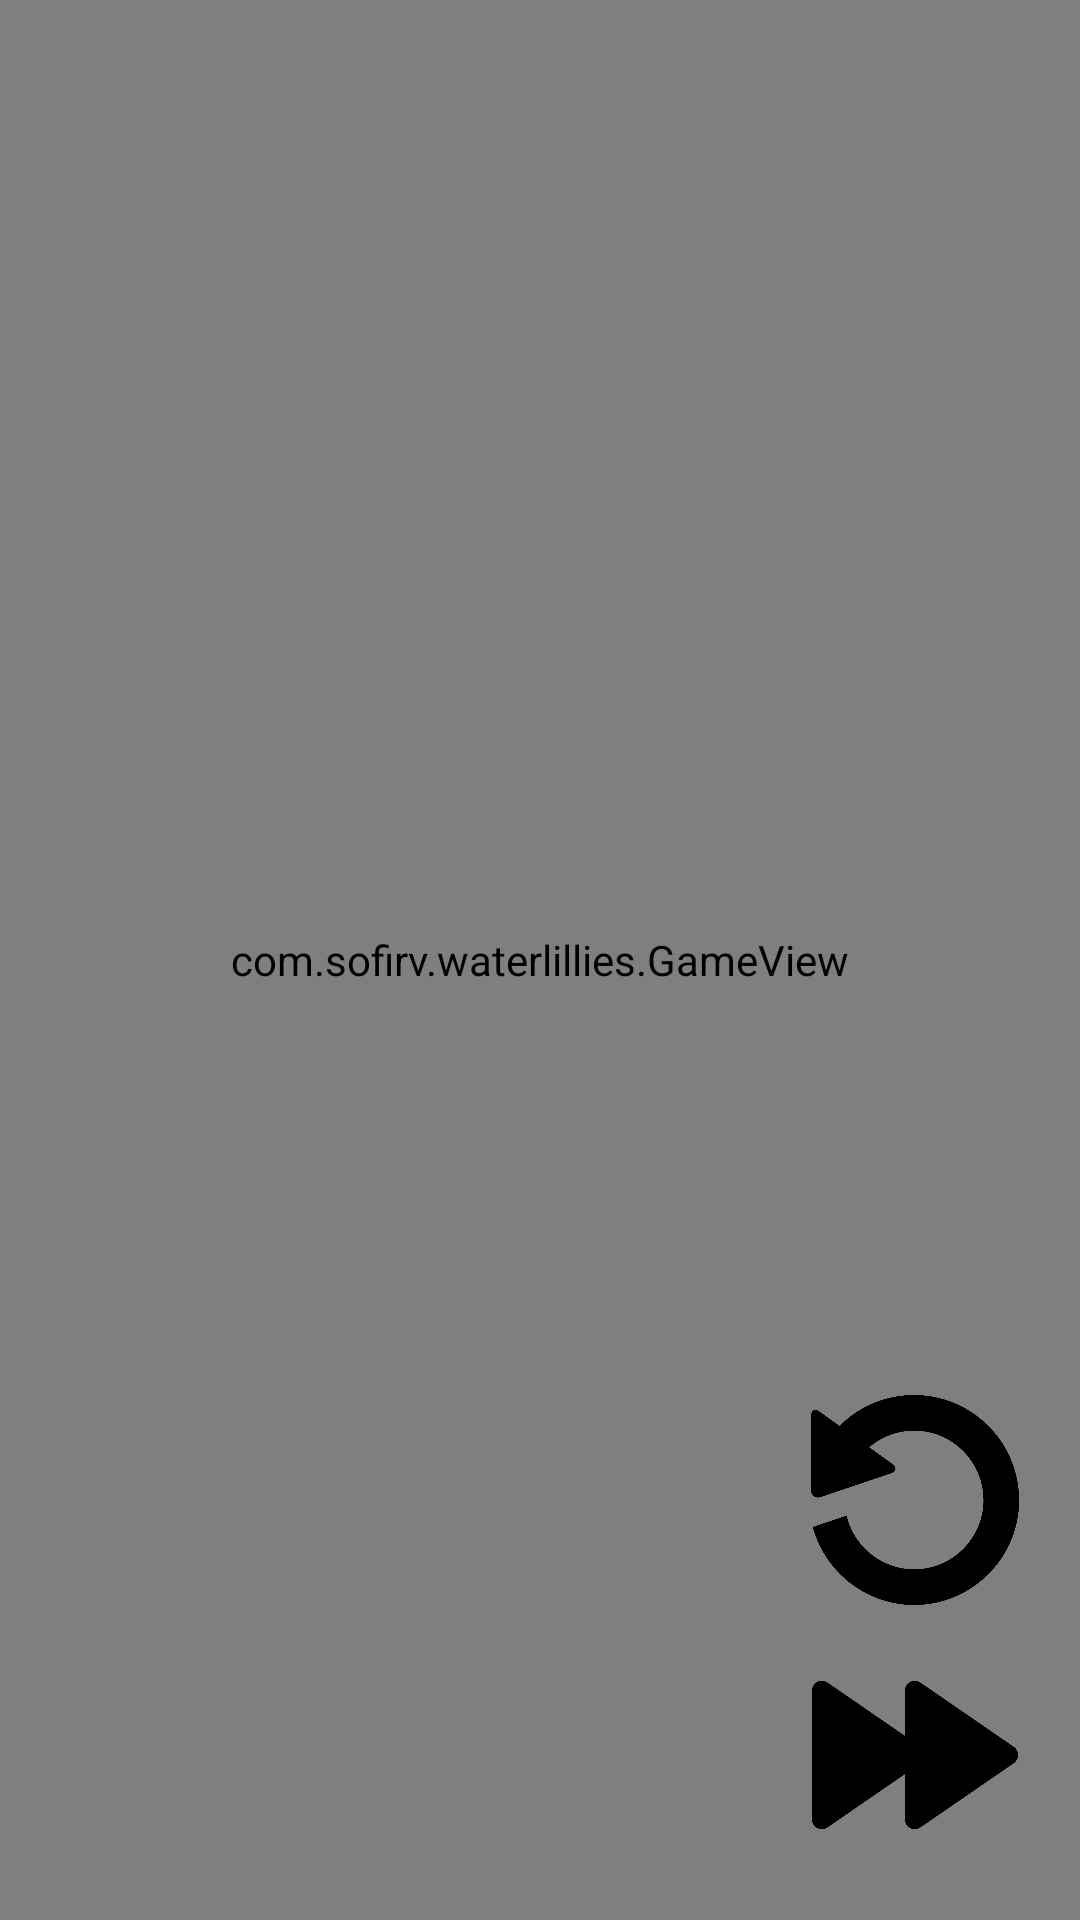

Icons on this 1080×1920 Android screen, each with the point to tap as [x,y]:
Reiniciar nivel: [915,1500]
Siguiente nivel: [915,1755]
